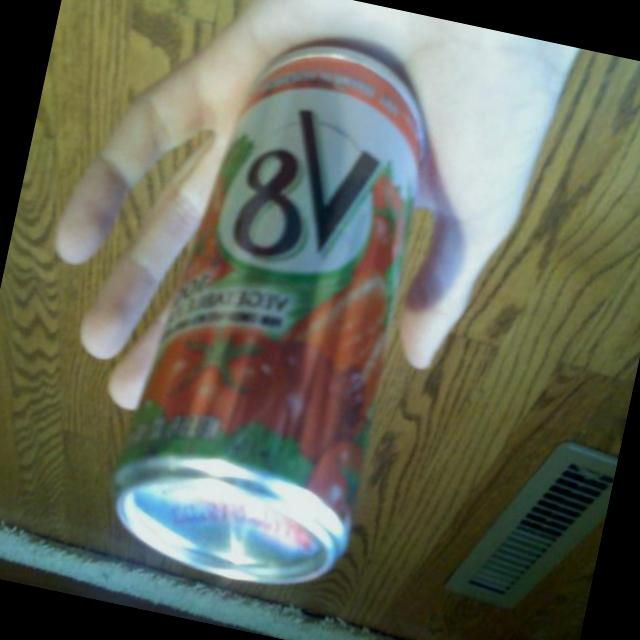can: (92, 12, 458, 606)
